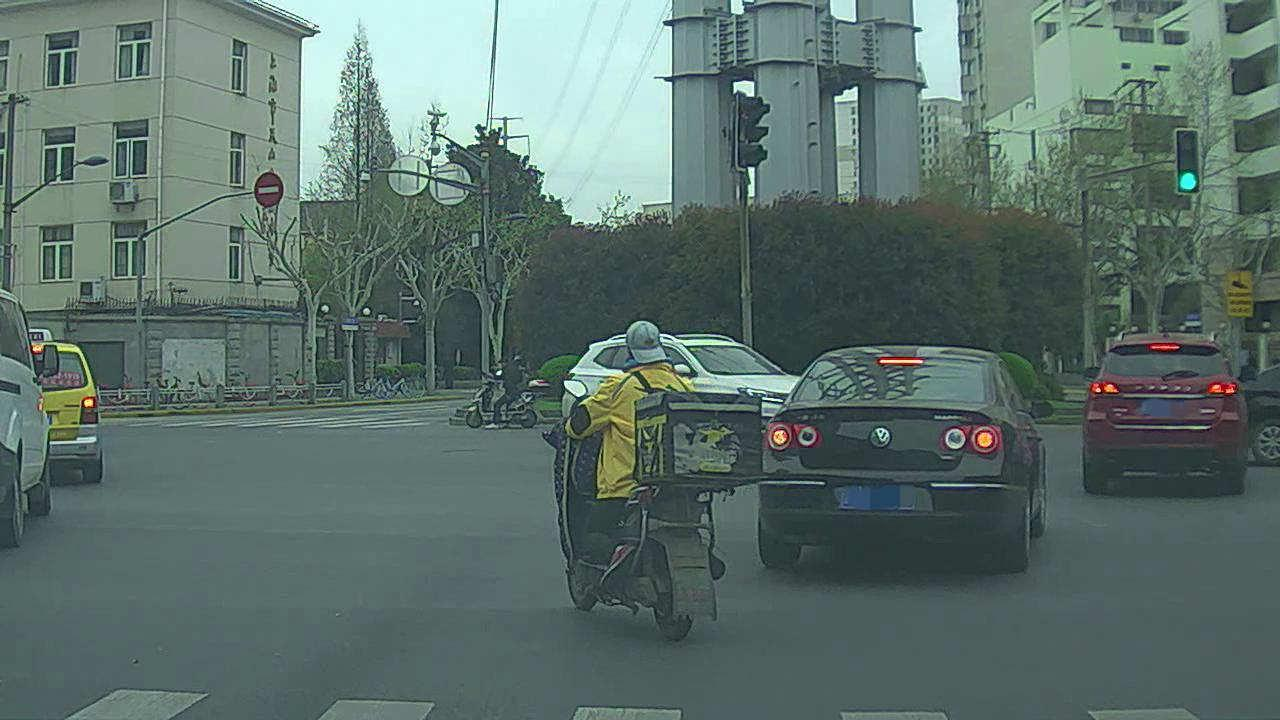traffic_light: (1176, 128, 1201, 195)
